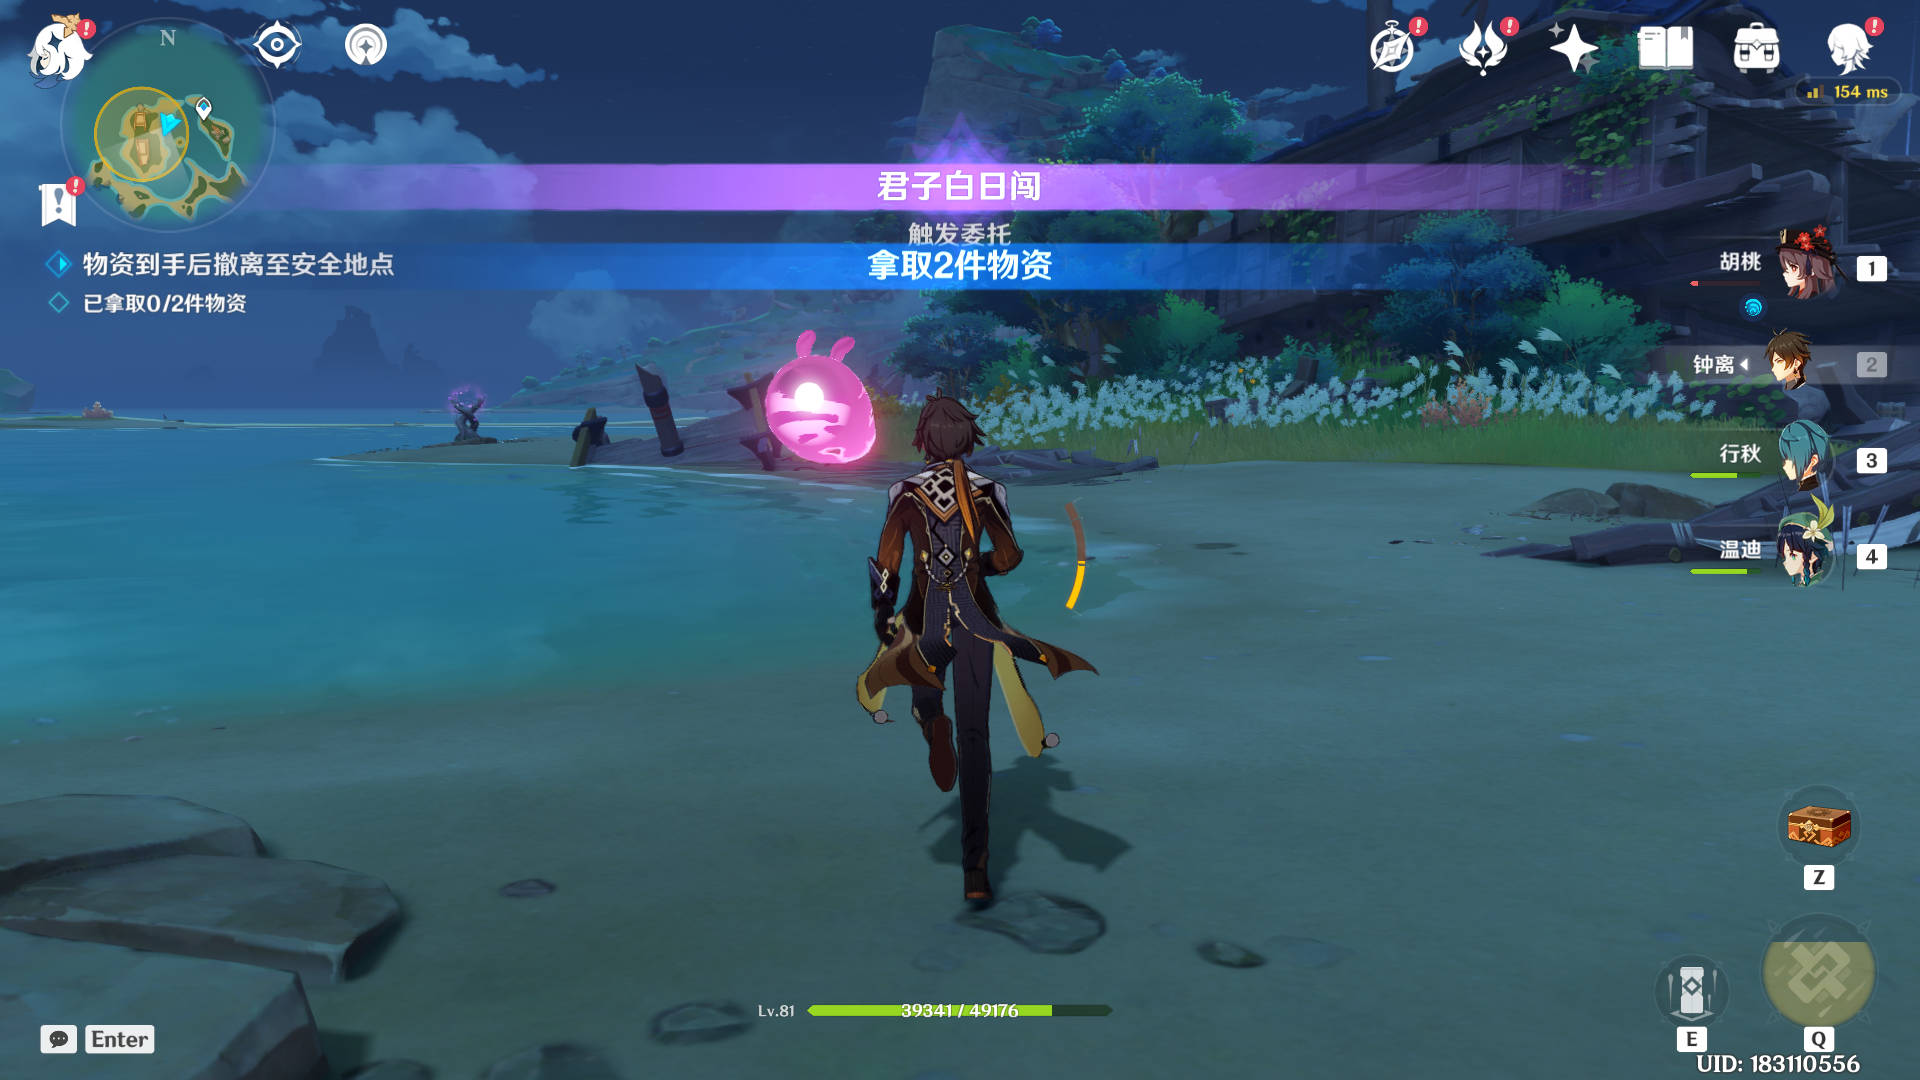character: (837, 363, 1150, 924)
